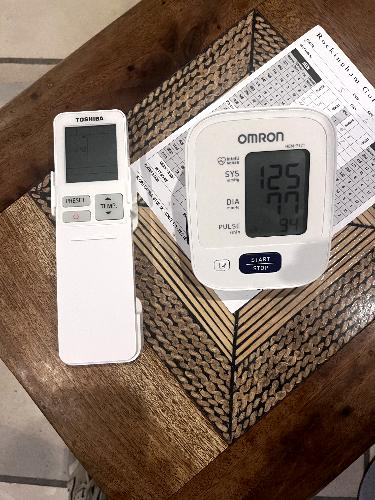bpm: (245, 149, 310, 239)
